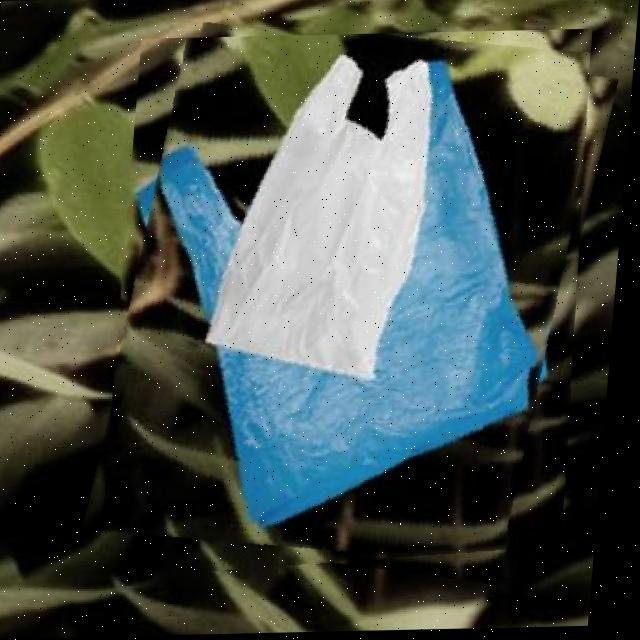litter: (107, 30, 603, 579), (176, 47, 466, 390)
